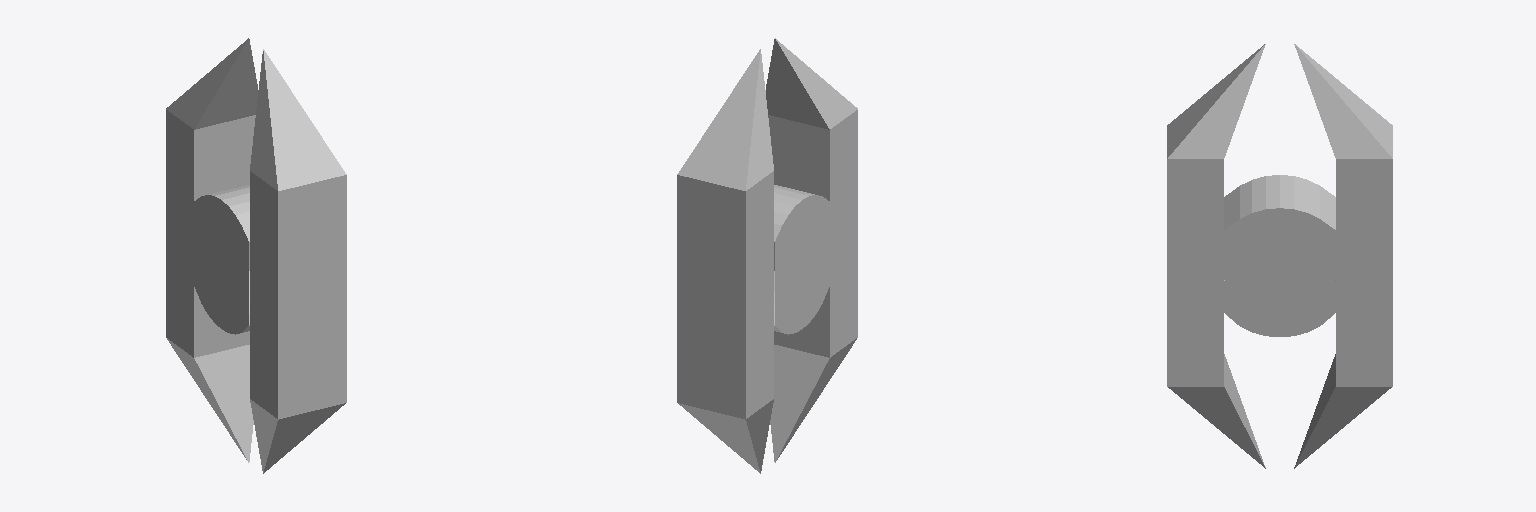
File: TwinLaser.obj
3 views of the same model, side by side, from view 1: azimuth 30°, elevation 25°; view 2: azimuth 150°, elevation 25°; view 3: azimuth 270°, elevation 25° (orthographic).
Size of the model in its own units: 0.6981 by 4.13 by 1.98.